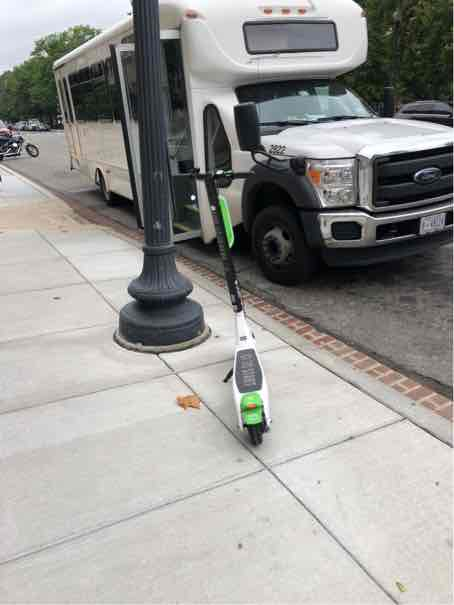scooter: (170, 158, 279, 454)
